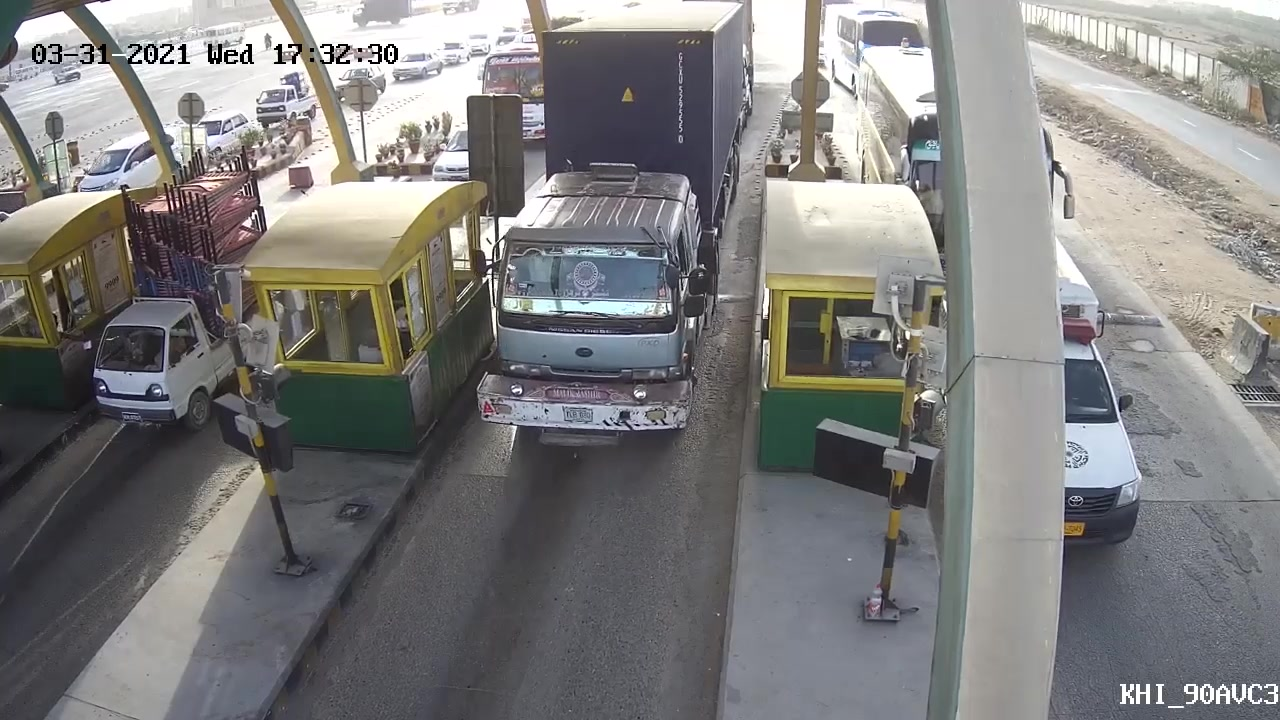F6: (492, 1, 757, 464)
